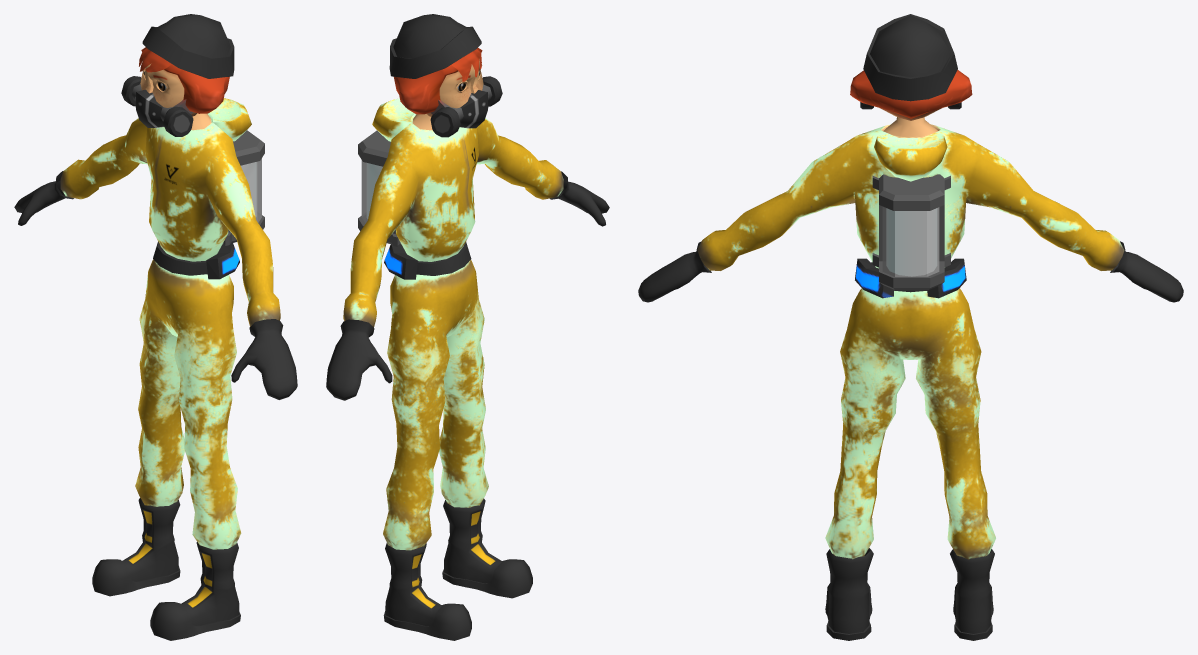
Rendered from ppe-mannequin.glb.
The picture shows the model from 3 angles, left to right: view 1: azimuth 30°, elevation 25°; view 2: azimuth 150°, elevation 25°; view 3: azimuth 270°, elevation 25°; orthographic projection. The views are drawn at different scales.
Parts seen in each view (by area): view 1: Personaje__0_4; view 2: Personaje__0_4; view 3: Personaje__0_4.
Part boxes in pixels (bbox=[...]): Personaje__0_4: bbox=[14, 14, 297, 640]; Personaje__0_4: bbox=[326, 14, 609, 640]; Personaje__0_4: bbox=[638, 14, 1183, 640].
Size of the model in its own units: 15.76 by 66.17 by 53.61.
Materials: 1 (1 with a texture image).
